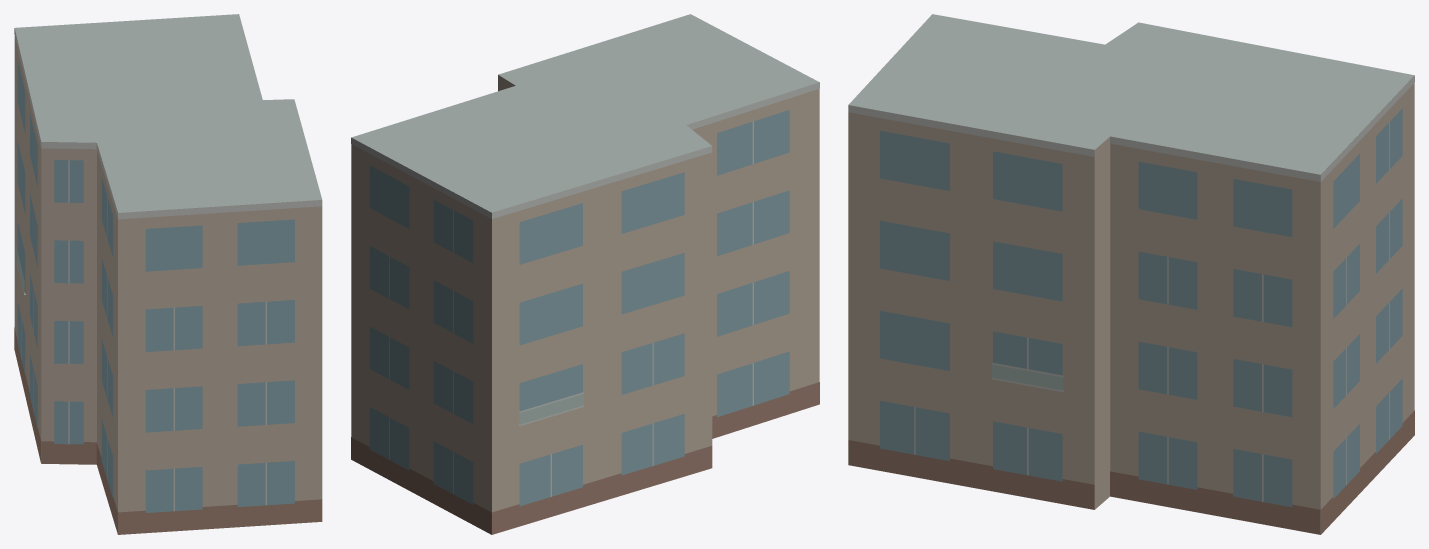
Rendered from survey-upis-32990246.glb.
3 views of the same model, side by side, from view 1: azimuth 30°, elevation 25°; view 2: azimuth 150°, elevation 25°; view 3: azimuth 270°, elevation 25° (orthographic). The views are drawn at different scales.
Parts seen in each view (by area): view 1: survey-upis-32990246.tmp; view 2: survey-upis-32990246.tmp; view 3: survey-upis-32990246.tmp.
Boxes of the visible parts, x1,y1,x2,y2 form: survey-upis-32990246.tmp: (14, 14, 322, 534); survey-upis-32990246.tmp: (351, 14, 819, 534); survey-upis-32990246.tmp: (848, 14, 1414, 534).
Size of the model in its own units: 11.7 by 12.2 by 17.4.
